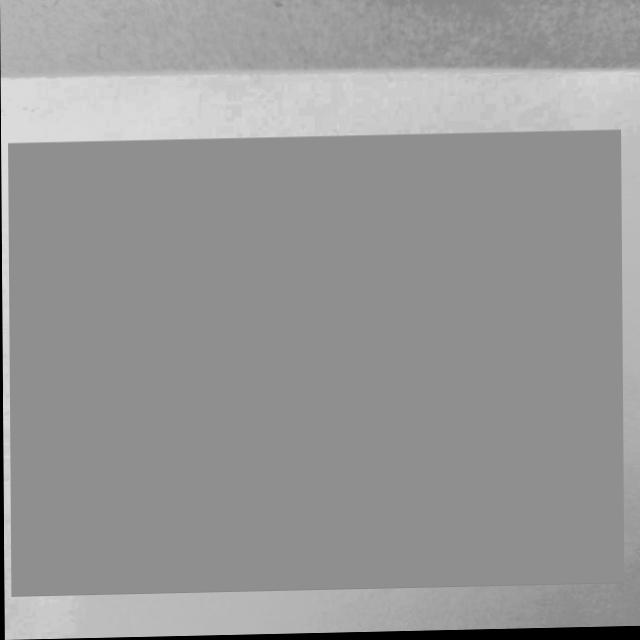qr_code: (8, 133, 623, 596)
